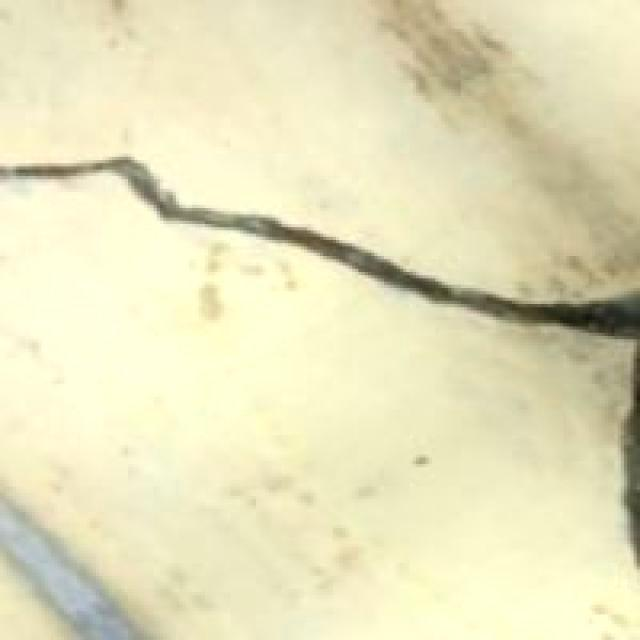crack: (0, 144, 640, 370)
